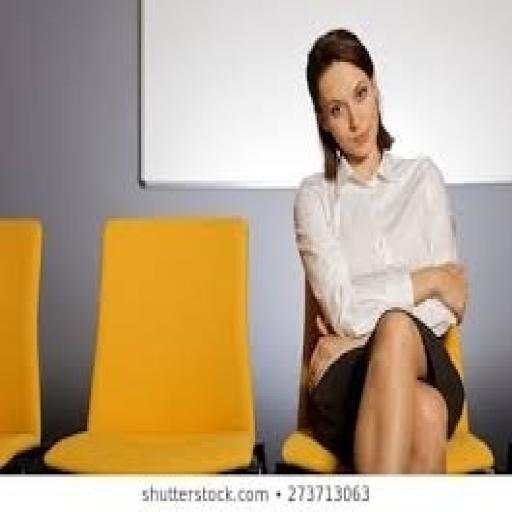sitting: (288, 24, 471, 474)
